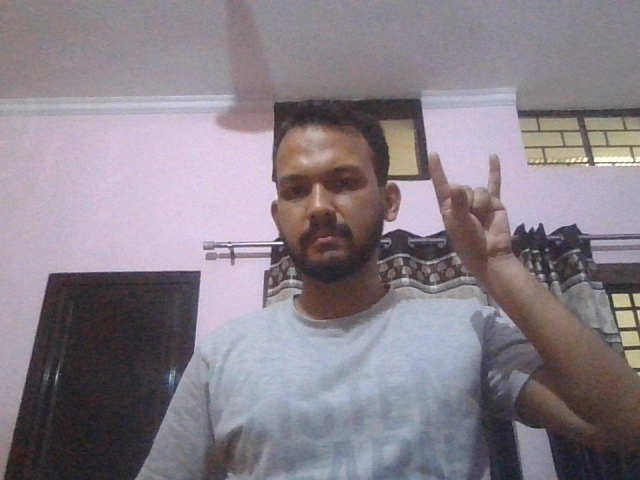iloveyou: (424, 153, 516, 263)
